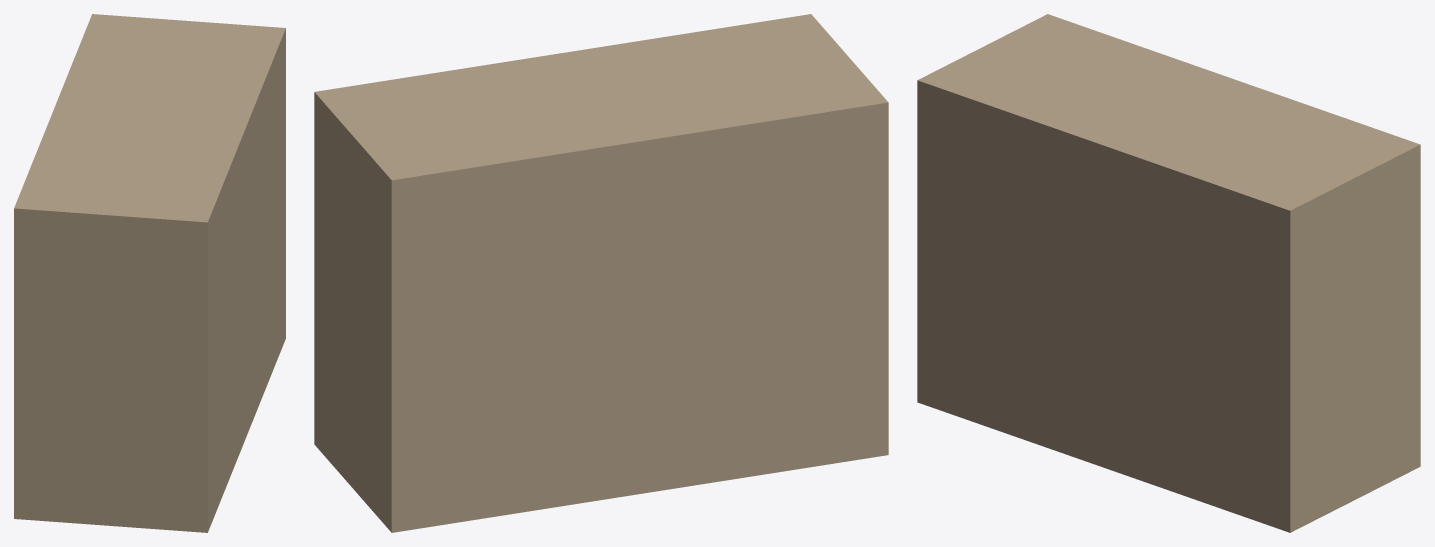
File: bld_106339031.dae
3 views of the same model, side by side, from view 1: azimuth 30°, elevation 25°; view 2: azimuth 150°, elevation 25°; view 3: azimuth 270°, elevation 25° (orthographic). The views are drawn at different scales.
Parts seen in each view (by area): view 1: bld_106339031; view 2: bld_106339031; view 3: bld_106339031.
Part boxes in pixels (box(x1,y1,x2,y2)): bld_106339031: box(14, 14, 285, 532); bld_106339031: box(314, 14, 888, 532); bld_106339031: box(917, 14, 1420, 532).
Bounding box in the file's own units: 10.48 × 11.33 × 8.
